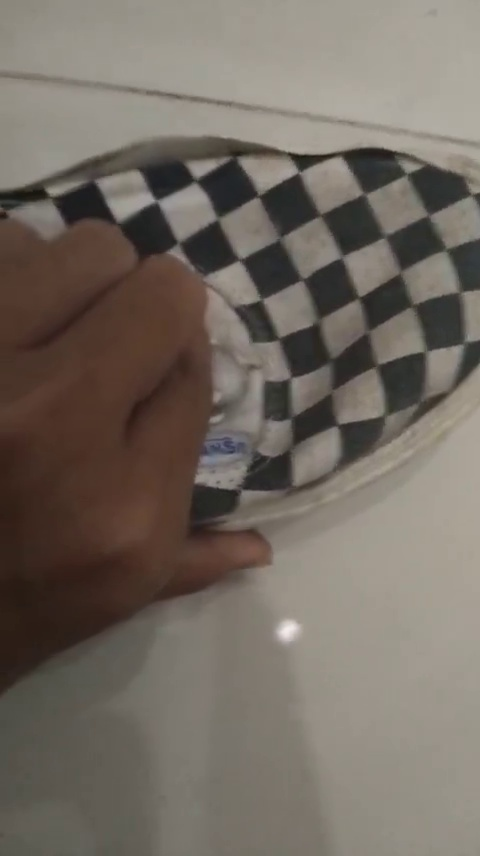bonding: (33, 129, 271, 178), (326, 137, 428, 178)
